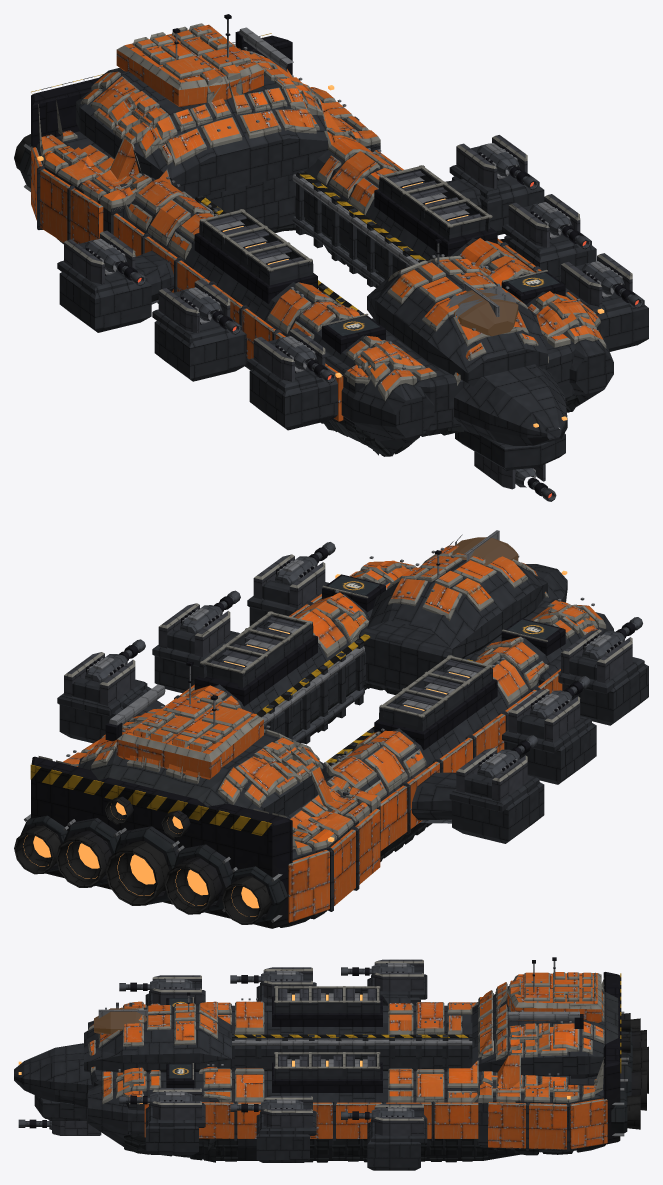
The model's file is saturn-schiff4.glb.
3 views of the same model, one above another, from view 1: azimuth 30°, elevation 25°; view 2: azimuth 150°, elevation 25°; view 3: azimuth 270°, elevation 25° (orthographic). The views are drawn at different scales.
Parts seen in each view (by area): view 1: Hull_LOD0, Laser_03, Laser_05, Laser_01, Laser_02, Laser_04, Laser_06; view 2: Hull_LOD0, EngineLight, Laser_02, Laser_06, Laser_04, Laser_03, Laser_05, Laser_01, Faction_Insignia_Left, Insignia_ClanSlot_Right; view 3: Hull_LOD0, Laser_01, Laser_02, Laser_04, Laser_06, Laser_03, Laser_05, Faction_Insignia_Left.
Part boxes in pixels (left/top/right/bottom): Hull_LOD0: left=14, top=14, right=648, bottom=489; Laser_03: left=529, top=202, right=590, bottom=249; Laser_05: left=477, top=143, right=538, bottom=190; Laser_01: left=582, top=261, right=642, bottom=308; Laser_02: left=275, top=336, right=335, bottom=383; Laser_04: left=180, top=287, right=240, bottom=334; Laser_06: left=85, top=238, right=145, bottom=286; Hull_LOD0: left=14, top=530, right=648, bottom=928; EngineLight: left=23, top=802, right=259, bottom=916; Laser_02: left=582, top=617, right=642, bottom=659; Laser_06: left=477, top=735, right=538, bottom=778; Laser_04: left=529, top=676, right=590, bottom=719; Laser_03: left=180, top=590, right=240, bottom=633; Laser_05: left=85, top=639, right=145, bottom=682; Laser_01: left=275, top=542, right=335, bottom=584; Faction_Insignia_Left: left=328, top=575, right=379, bottom=595; Insignia_ClanSlot_Right: left=507, top=619, right=559, bottom=639; Hull_LOD0: left=14, top=957, right=648, bottom=1170; Laser_01: left=119, top=1091, right=192, bottom=1106; Laser_02: left=119, top=978, right=192, bottom=993; Laser_04: left=230, top=970, right=303, bottom=985; Laser_06: left=341, top=963, right=414, bottom=977; Laser_03: left=230, top=1099, right=303, bottom=1114; Laser_05: left=341, top=1107, right=414, bottom=1122; Faction_Insignia_Left: left=169, top=1064, right=191, bottom=1078.
Size of the model in its own units: 38 by 19.05 by 61.8.
6 materials, 4 textured.
